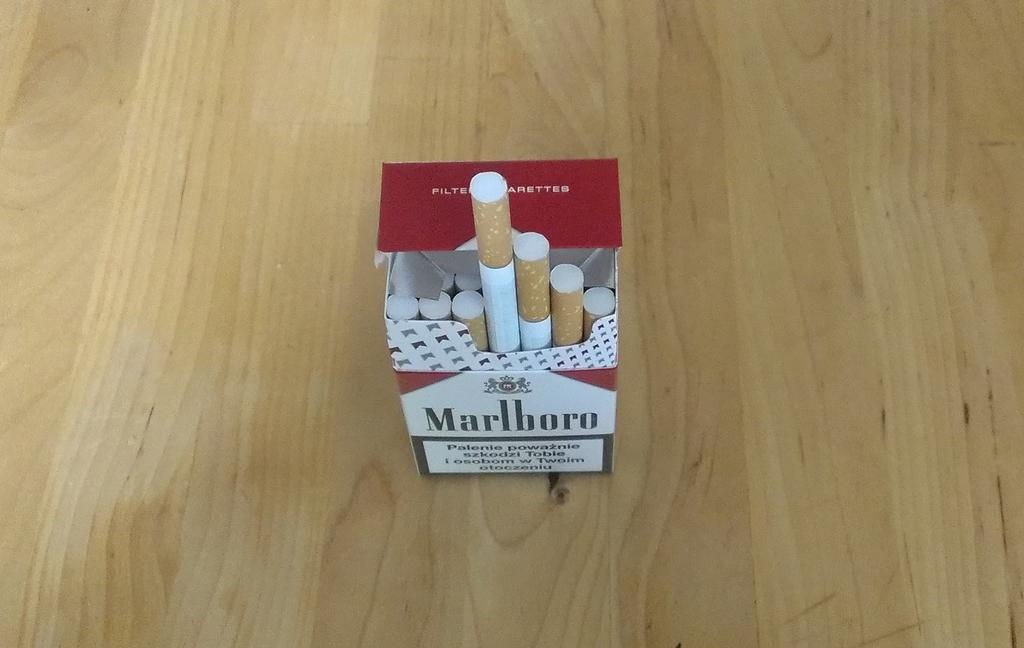marlboro_red: (411, 177, 614, 474)
